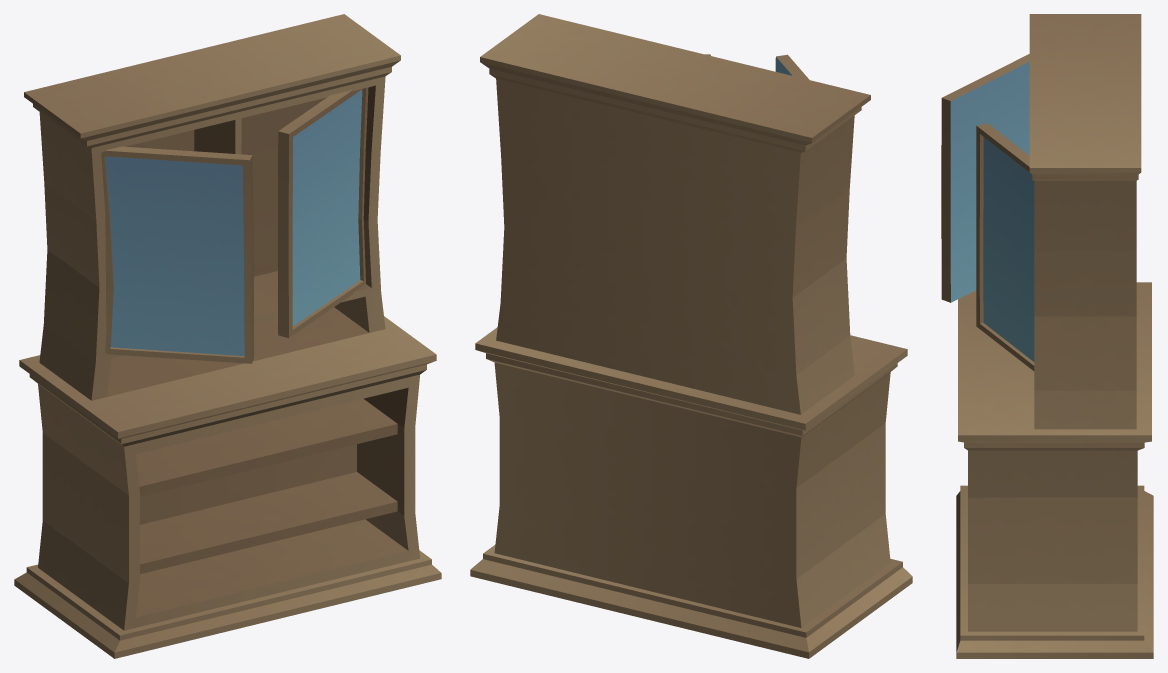
Rendered from cupboard_1b.glb.
3 views of the same model, side by side, from view 1: azimuth 30°, elevation 25°; view 2: azimuth 150°, elevation 25°; view 3: azimuth 270°, elevation 25° (orthographic). The views are drawn at different scales.
Parts seen in each view (by area): view 1: cupboard_1b, right_wing, left_wing; view 2: cupboard_1b; view 3: cupboard_1b, left_wing, right_wing.
Boxes of the visible parts, <box> form: cupboard_1b: <box>14,14,441,658</box>; right_wing: <box>101,146,253,363</box>; left_wing: <box>278,87,368,338</box>; cupboard_1b: <box>470,14,912,658</box>; cupboard_1b: <box>956,14,1153,658</box>; left_wing: <box>976,123,1034,370</box>; right_wing: <box>941,54,1029,302</box>.
Bounding box in the file's own units: 1.1 × 1.6 × 0.6291.
1 material, 1 textured.
